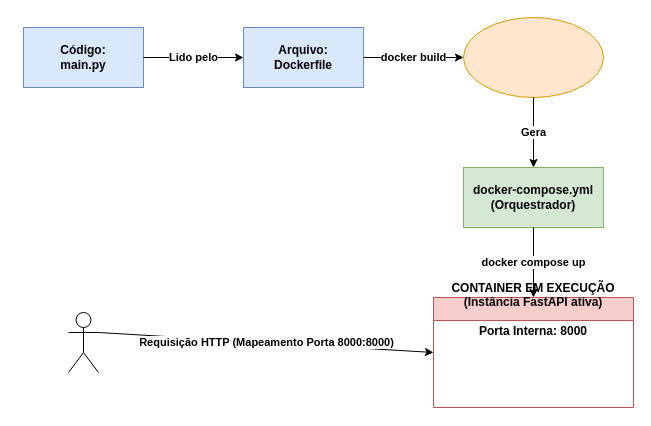
The diagram is 651 pixels wide and 426 high, and some of its shapes have lost their labels. The box of each missing label's shape, as (x1, y1, x2, y2) in pixels:
Cliente Externo (Navegador / Insomnia): (68, 312, 98, 372)
Imagem Docker (Artefato Estático): (462, 16, 604, 98)
